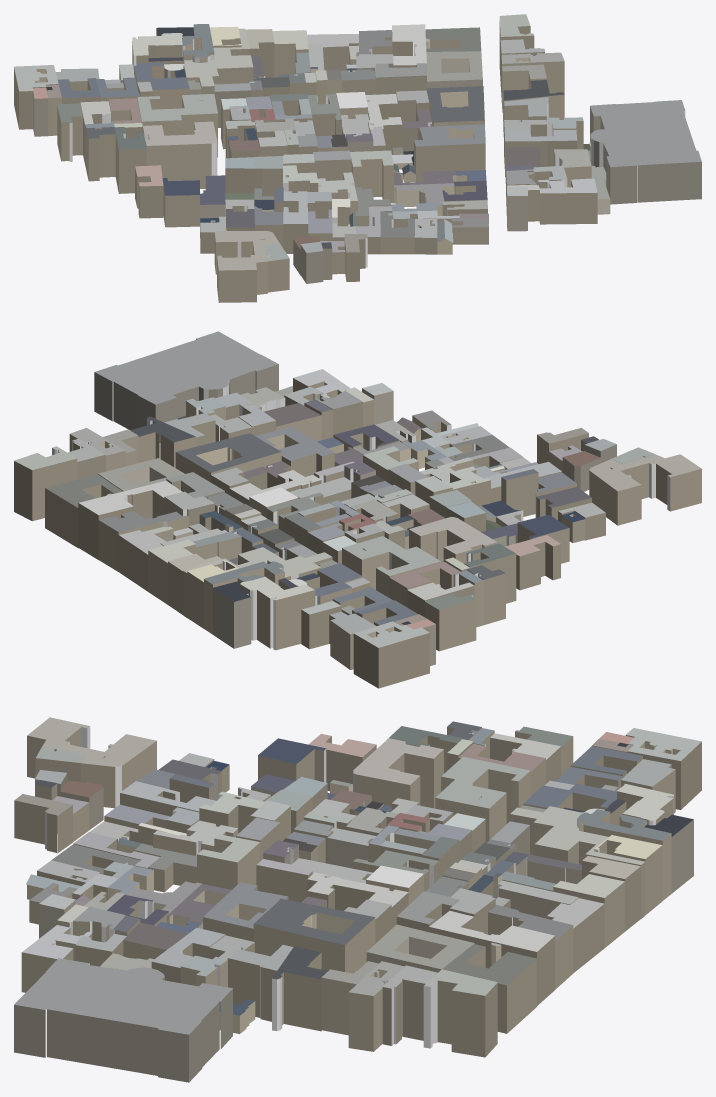
The picture shows the model from 3 angles, top to bottom: view 1: azimuth 30°, elevation 25°; view 2: azimuth 150°, elevation 25°; view 3: azimuth 270°, elevation 25°; orthographic projection. The views are drawn at different scales.
Visible parts, largest first — view 1: tuile; view 2: tuile; view 3: tuile.
Part boxes in pixels (x1,y1,x2,y2): tuile: (14,14,701,302); tuile: (14,331,701,688); tuile: (14,717,701,1082).
Size of the model in its own units: 304 by 30.82 by 273.
